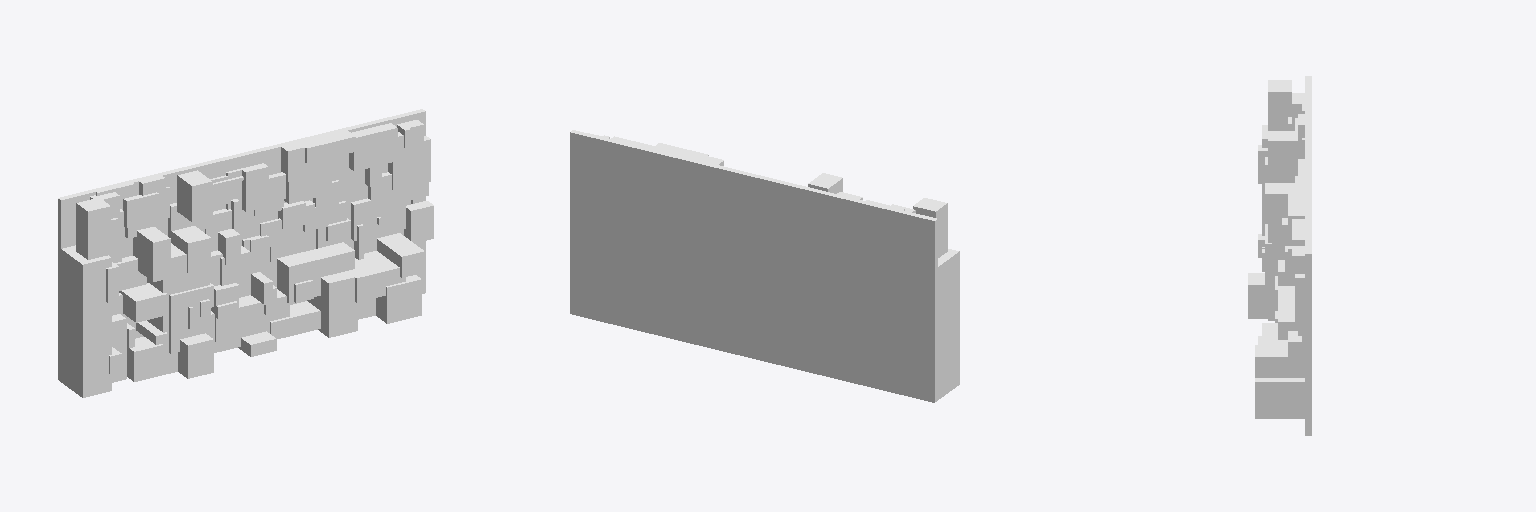
The model's file is blocky_wall_02.obj.
3 views of the same model, side by side, from view 1: azimuth 30°, elevation 25°; view 2: azimuth 150°, elevation 25°; view 3: azimuth 270°, elevation 25° (orthographic).
Bounding box in the file's own units: 126 × 60 × 19.